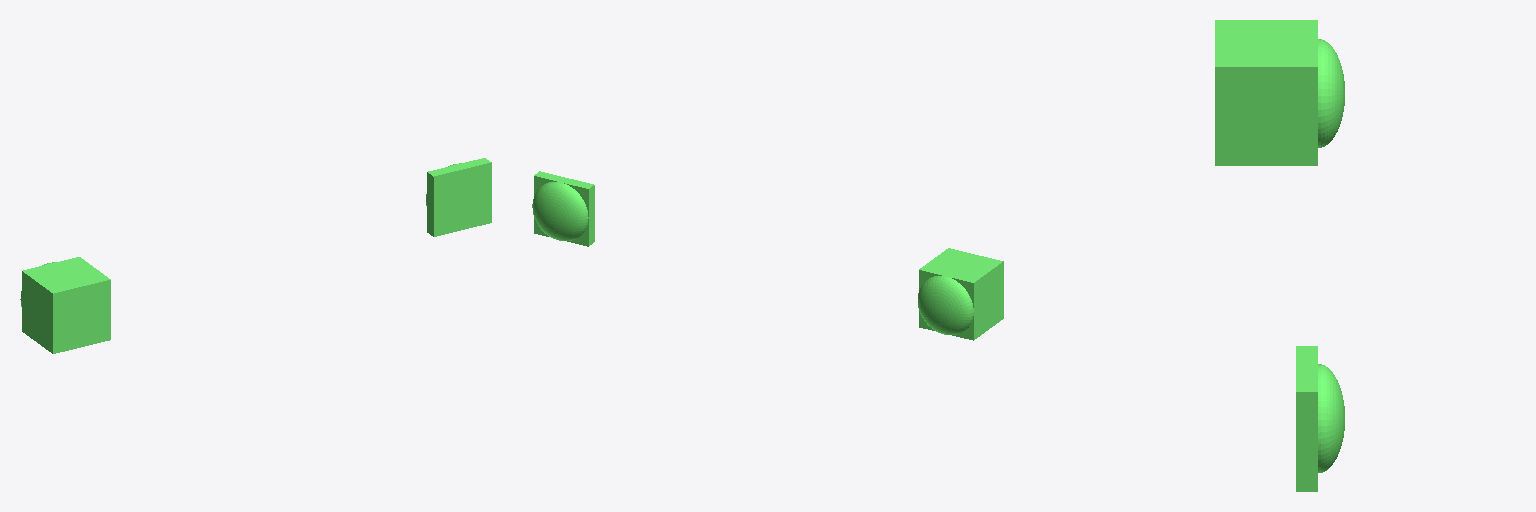
The robot description file, URDF, robot "full_assembly_robot_unit":
<?xml version="1.0" encoding="utf-8"?>
<robot name="full_assembly_robot_unit">

  <material name="chassis_color">
    <color rgba="0.79 0.82 0.93 1" />
  </material>
  <material name="leg_color">
    <color rgba="0.5 1.0 0.5 1" />
  </material>

  <link name="chassis">
    <inertial>
      <origin xyz="0 -0.0071 -0.0065" rpy="0 0 0" />
      <mass value="0.0579" />
      <inertia ixx="1.489e-05" ixy="0" ixz="0" iyy="3.347e-05" iyz="7.192e-08" izz="2.671e-05" />
    </inertial>
    <visual>
      <geometry>
        <mesh filename="meshes/chassis.STL" />
      </geometry>
      <material name="chassis_color"/>
    </visual>
    <collision>
      <geometry>
        <mesh filename="meshes/chassis.STL" />
      </geometry>
    </collision>
  </link>

  <link name="right_leg_link">
    <inertial>
      <origin xyz="0 0 0.0006" rpy="0 0 0" />
      <mass value="0.00002" />
      <inertia ixx="2.74e-11" ixy="0" ixz="0" iyy="2.74e-11" iyz="0" izz="4.66e-11" />
    </inertial>
    <visual>
      <geometry>
        <mesh filename="meshes/right_leg_link.STL" />
      </geometry>
      <material name="leg_color"/>
    </visual>
    <collision>
      <geometry>
        <mesh filename="meshes/right_leg_link.STL" />
      </geometry>
    </collision>
  </link>

  <joint name="right_leg_joint" type="fixed">
    <origin xyz="-0.014 0.0113 0.0173" rpy="-1.5708 0 3.1416" />
    <parent link="chassis" />
    <child link="right_leg_link" />
  </joint>

  <link name="left_leg_link">
    <inertial>
      <origin xyz="0 0 0.0006" rpy="0 0 0" />
      <mass value="0.00002" />
      <inertia ixx="2.74e-11" ixy="0" ixz="0" iyy="2.74e-11" iyz="0" izz="4.66e-11" />
    </inertial>
    <visual>
      <geometry>
        <mesh filename="meshes/left_leg_link.STL" />
      </geometry>
      <material name="leg_color"/>
    </visual>
    <collision>
      <geometry>
        <mesh filename="meshes/left_leg_link.STL" />
      </geometry>
    </collision>
  </link>

  <joint name="left_leg_joint" type="fixed">
    <origin xyz="0.014 0.0113 0.0173" rpy="-1.5708 0 3.1416" />
    <parent link="chassis" />
    <child link="left_leg_link" />
  </joint>

</robot>

--- What the picture shows (computed from the rendered views, not written in the file) ---
3 views of the same robot in one strip: view 1: azimuth 30°, elevation 25°; view 2: azimuth 150°, elevation 25°; view 3: azimuth 270°, elevation 25° (orthographic).
Robot: full_assembly_robot_unit — 3 links, 2 joints (2 fixed); root link chassis; default pose: all joints at 0.
Links seen in each view (by area): view 1: right_leg_link, left_leg_link; view 2: right_leg_link, left_leg_link; view 3: right_leg_link, left_leg_link.
Boxes of the visible links, <box> form: right_leg_link: <box>20,257,110,353</box>; left_leg_link: <box>426,158,491,236</box>; right_leg_link: <box>918,248,1003,340</box>; left_leg_link: <box>532,171,594,246</box>; right_leg_link: <box>1215,20,1344,165</box>; left_leg_link: <box>1296,346,1344,491</box>.
Bounding box of the posed robot: 0.032 × 0.0048 × 0.004 m (x, y, z).
2 mesh visuals loaded from 3 distinct referenced files (2 binary STL); not drawn: 1 (reference not matched to a file when rendering).
